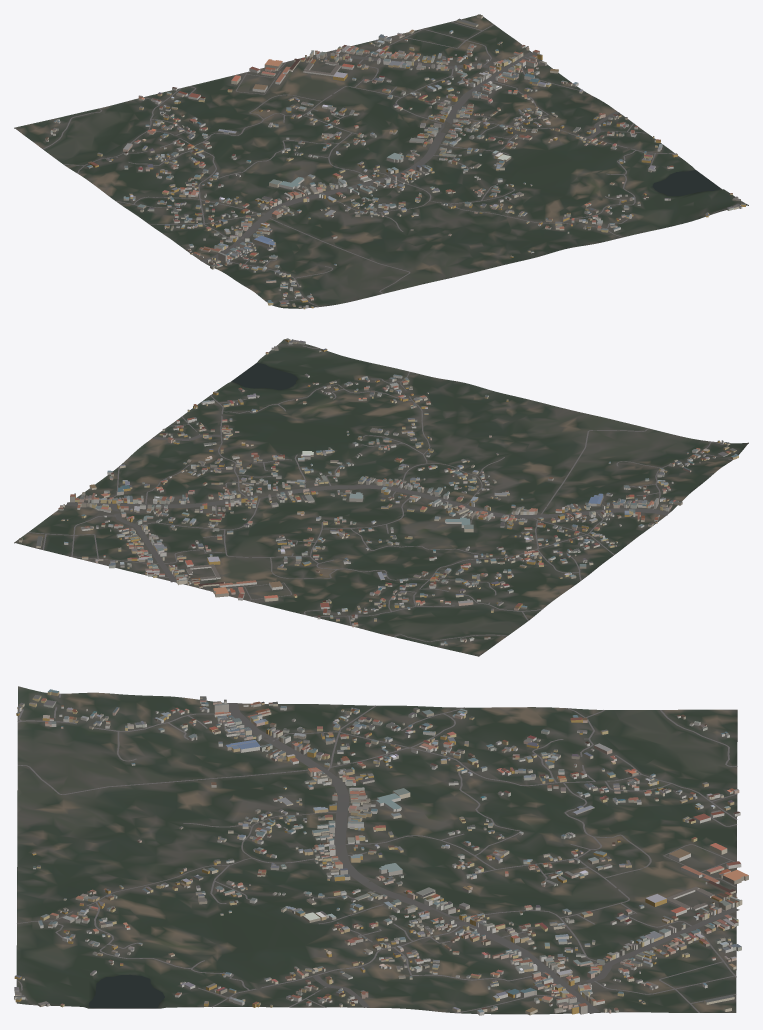
The picture shows the model from 3 angles, top to bottom: view 1: azimuth 30°, elevation 25°; view 2: azimuth 150°, elevation 25°; view 3: azimuth 270°, elevation 25°; orthographic projection. The views are drawn at different scales.
Parts seen in each view (by area): view 1: ground, buildings, roads, water; view 2: ground, buildings, roads, water; view 3: ground, buildings, roads, water.
Boxes of the visible parts, box(x1,y1,x2,y2) form: ground: box(14, 14, 748, 308); buildings: box(45, 14, 745, 309); roads: box(43, 21, 742, 307); water: box(652, 170, 720, 196); ground: box(14, 339, 748, 656); buildings: box(19, 338, 738, 645); roads: box(28, 344, 732, 641); water: box(231, 363, 297, 390); ground: box(16, 686, 737, 1014); buildings: box(14, 689, 748, 1015); roads: box(16, 693, 739, 1013); water: box(89, 974, 164, 1007).
Bounding box in the file's own units: 1414 × 56.2 × 1432.
